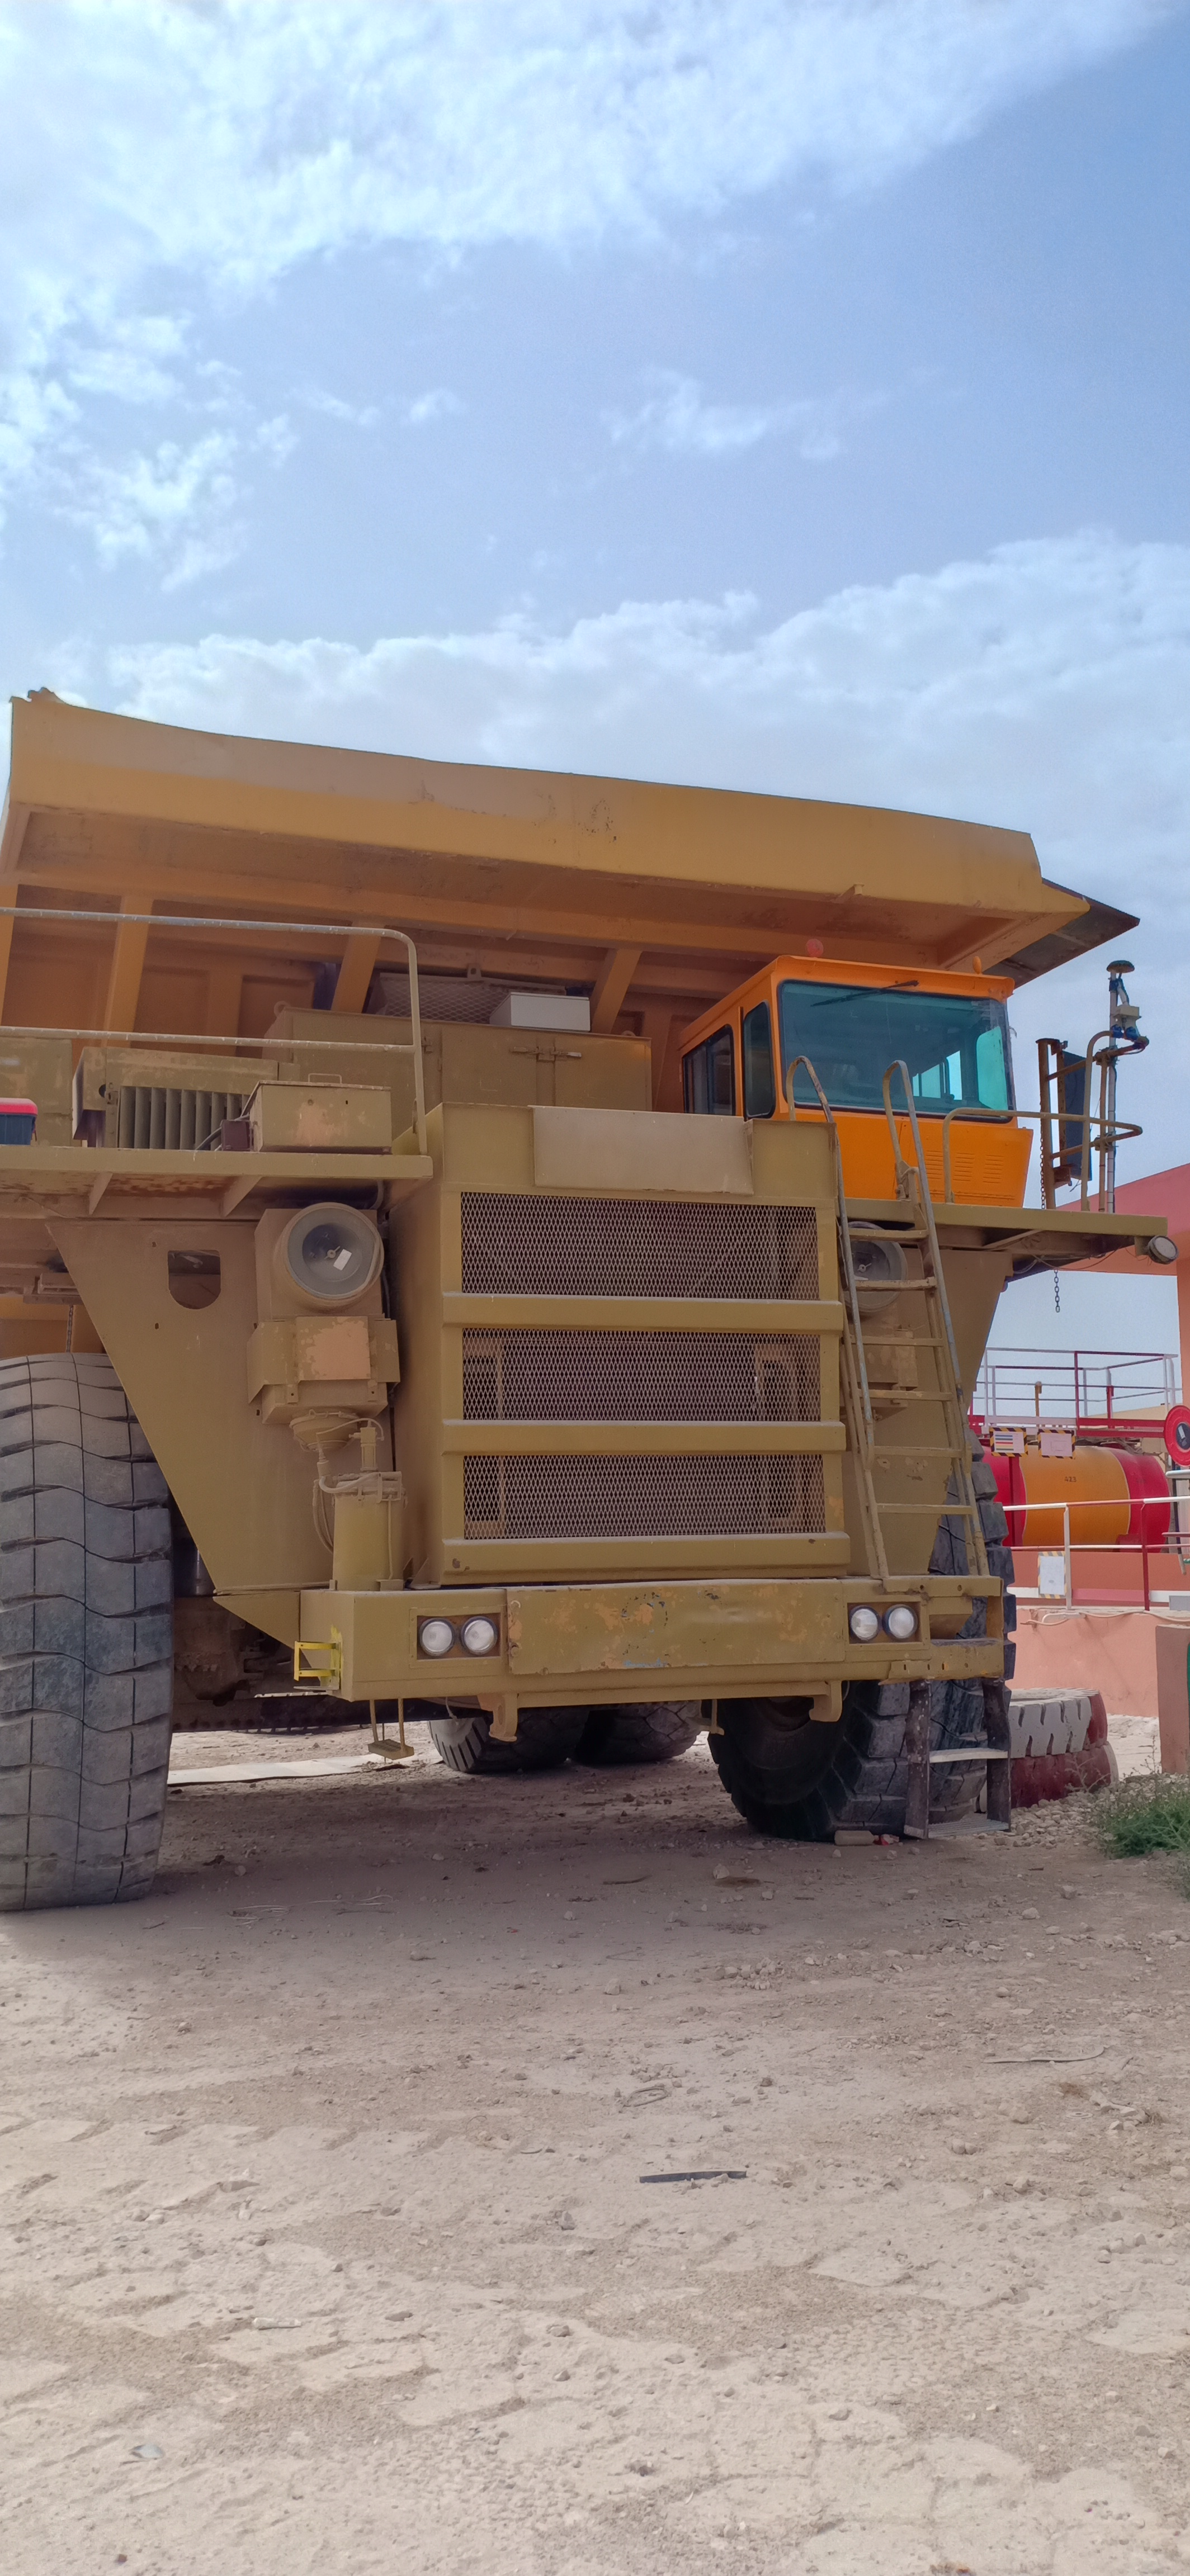camion: (0, 733, 1119, 1932)
